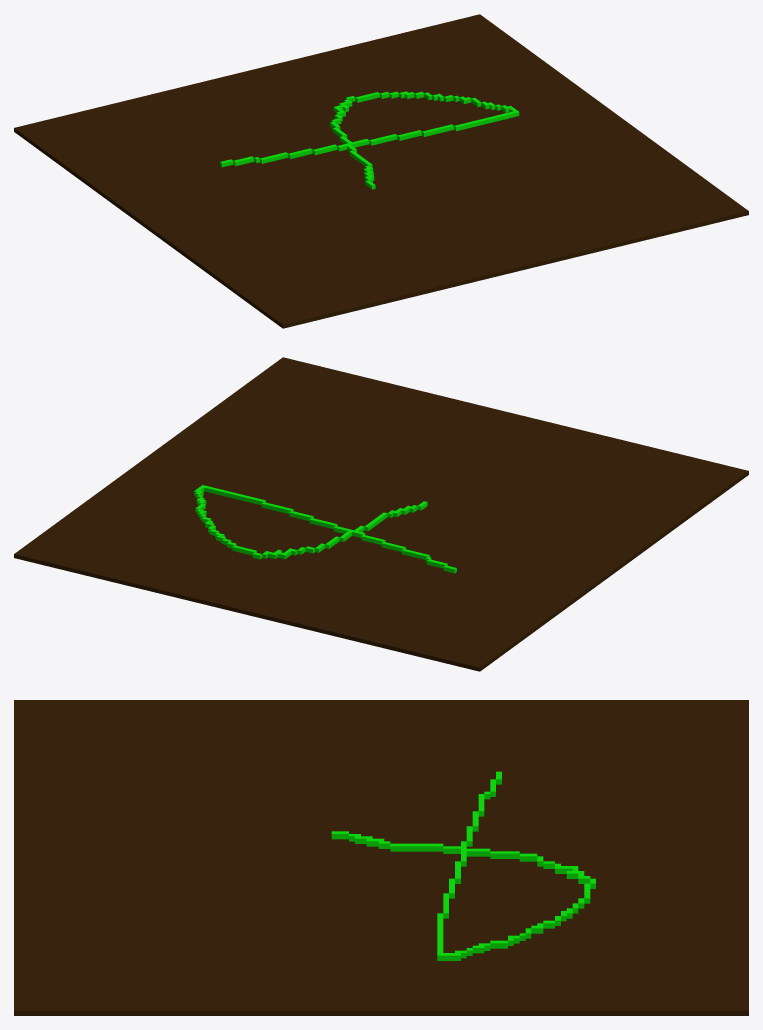
Rendered from Level01-3.obj.
3 views of the same model, one above another, from view 1: azimuth 30°, elevation 25°; view 2: azimuth 150°, elevation 25°; view 3: azimuth 270°, elevation 25° (orthographic). The views are drawn at different scales.
Parts seen in each view (by area): view 1: Level01-3; view 2: Level01-3; view 3: Level01-3.
Boxes of the visible parts, left/top/right/bottom form: Level01-3: left=14, top=14, right=748, bottom=328; Level01-3: left=14, top=357, right=748, bottom=671; Level01-3: left=14, top=700, right=748, bottom=1015.
Bounding box in the file's own units: 125 × 2 × 125.
1 material, 1 textured.
